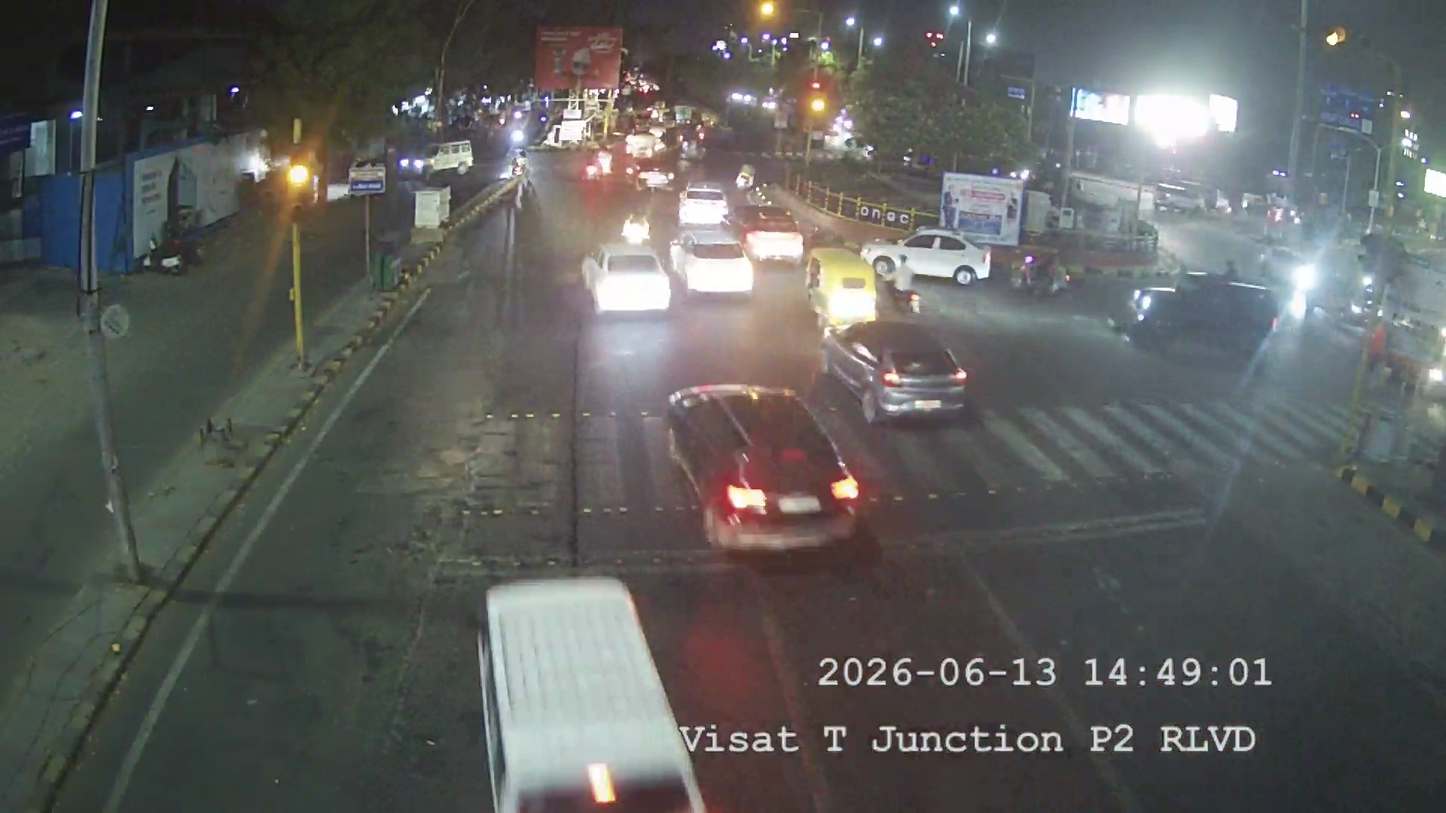auto_rickshaw: (801, 246, 883, 322)
car: (462, 560, 686, 806), (654, 373, 866, 552), (821, 322, 973, 420), (876, 224, 995, 284), (579, 242, 673, 317), (802, 247, 883, 322), (672, 229, 756, 300), (743, 217, 805, 265), (679, 180, 732, 227), (429, 138, 476, 175), (626, 153, 675, 188), (345, 159, 388, 193), (632, 163, 675, 192)
two_wheeler: (1013, 245, 1073, 298), (581, 143, 613, 183)
